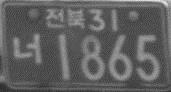1: (56, 32, 71, 81), (110, 7, 119, 34)
3: (87, 7, 106, 32)
5: (135, 33, 161, 83)
6: (107, 33, 134, 82)
8: (80, 33, 106, 82)
너: (12, 31, 42, 65)
전북_O: (45, 7, 85, 30)
